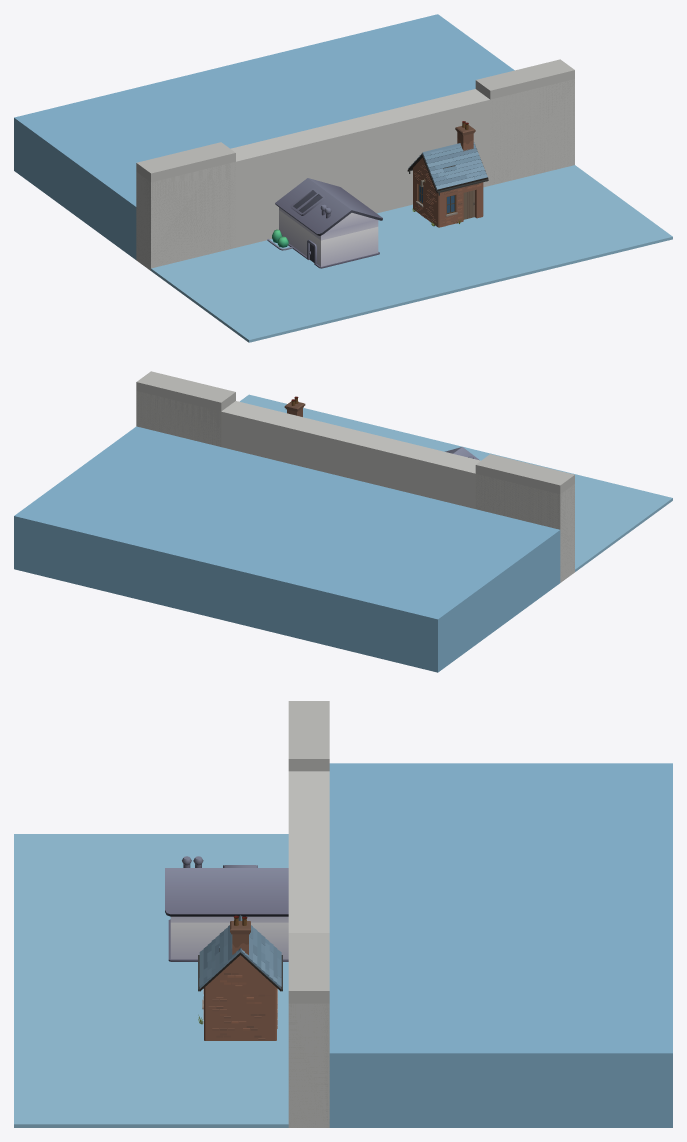
The model's file is plant_hydro.glb.
The picture shows the model from 3 angles, top to bottom: view 1: azimuth 30°, elevation 25°; view 2: azimuth 150°, elevation 25°; view 3: azimuth 270°, elevation 25°; orthographic projection. The views are drawn at different scales.
Visible parts, largest first — view 1: ground (×5), building-i, pump-house; view 2: ground (×5); view 3: ground (×5), building-i, pump-house.
Part boxes in pixels (bbox=[...]): ground (×5): bbox=[14, 14, 672, 342]; building-i: bbox=[267, 178, 382, 268]; pump-house: bbox=[407, 121, 488, 227]; ground (×5): bbox=[14, 371, 672, 672]; ground (×5): bbox=[14, 701, 672, 1127]; building-i: bbox=[165, 856, 288, 961]; pump-house: bbox=[198, 915, 282, 1040].
Size of the model in its own units: 100 by 22 by 96.
6 materials, 1 textured.
